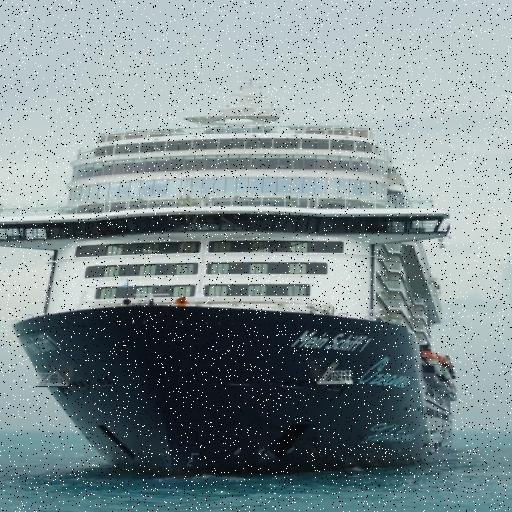cruises: (1, 81, 478, 483)
